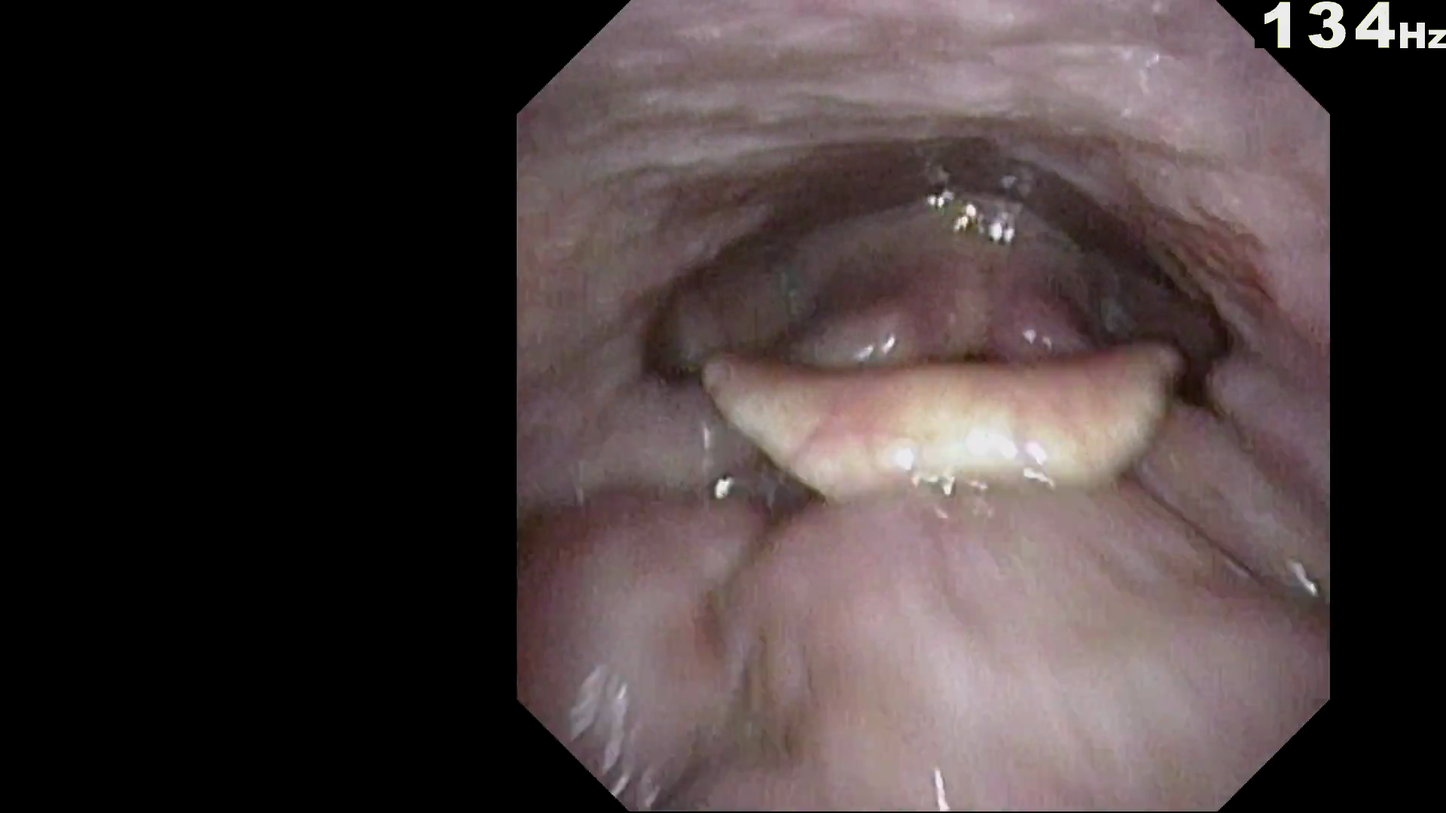epiglottis: (689, 327, 1155, 446)
